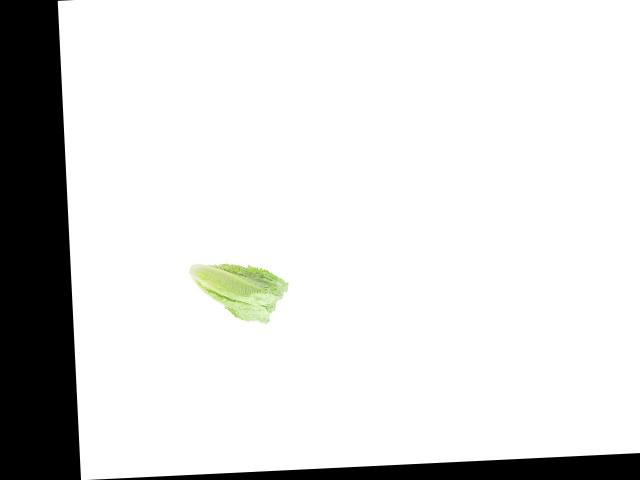lettuce: (179, 258, 290, 328)
